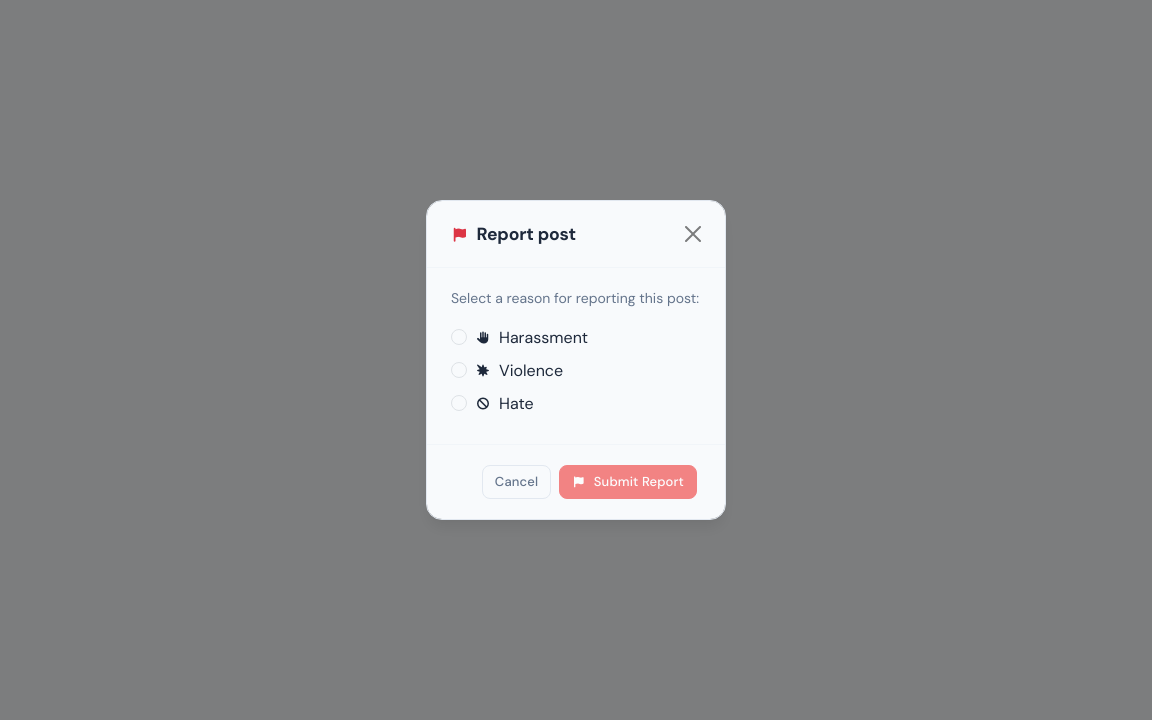
ReportModal › shows success message after submit
Click the radio button labelled "Hate" at (459, 403), box [451,395,467,411]
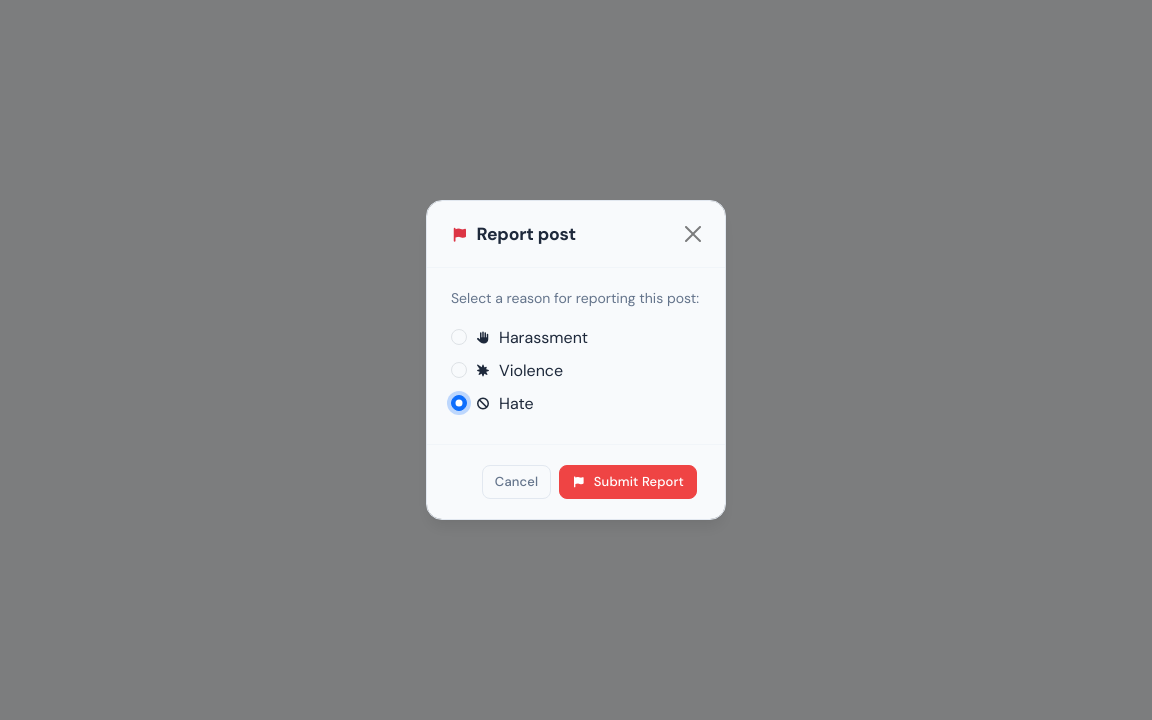
Click the button "Submit Report" at (628, 482), box [559,465,697,499]
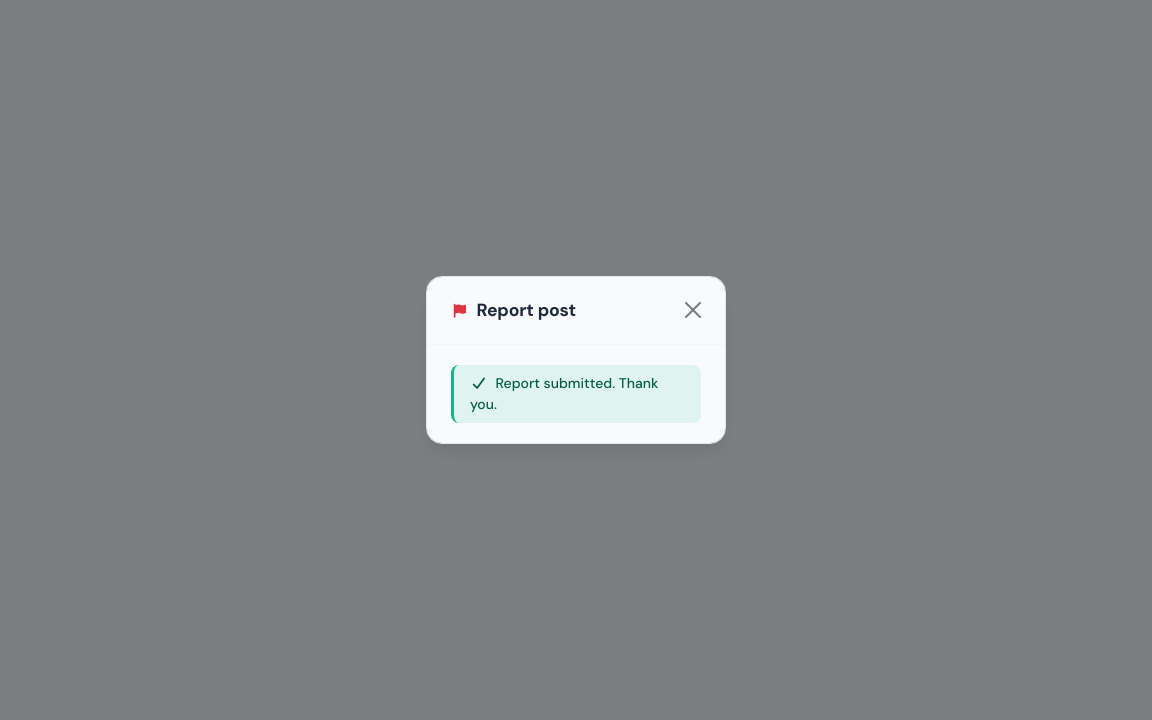
Result: the text "Report submitted. Thank you." is shown at [451,365,701,423]
